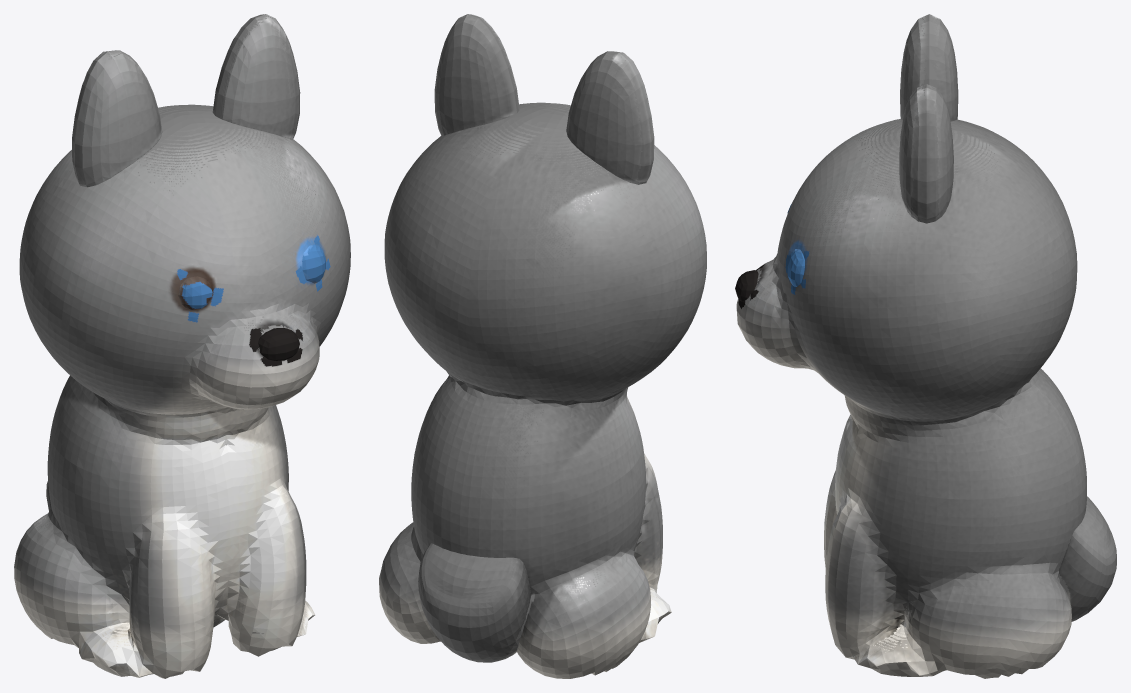
File: figure.glb
3 renders of one model, left to right at view 1: azimuth 30°, elevation 25°; view 2: azimuth 150°, elevation 25°; view 3: azimuth 270°, elevation 25°, orthographic. The views are drawn at different scales.
Visible parts, largest first — view 1: figure; view 2: figure; view 3: figure.
Boxes of the visible parts, box(x1,y1,x2,y2) form: figure: box(14, 14, 350, 678); figure: box(379, 14, 706, 678); figure: box(735, 14, 1116, 678).
Size of the model in its own units: 47.4 by 93.76 by 55.6.
1 material, 1 textured.
